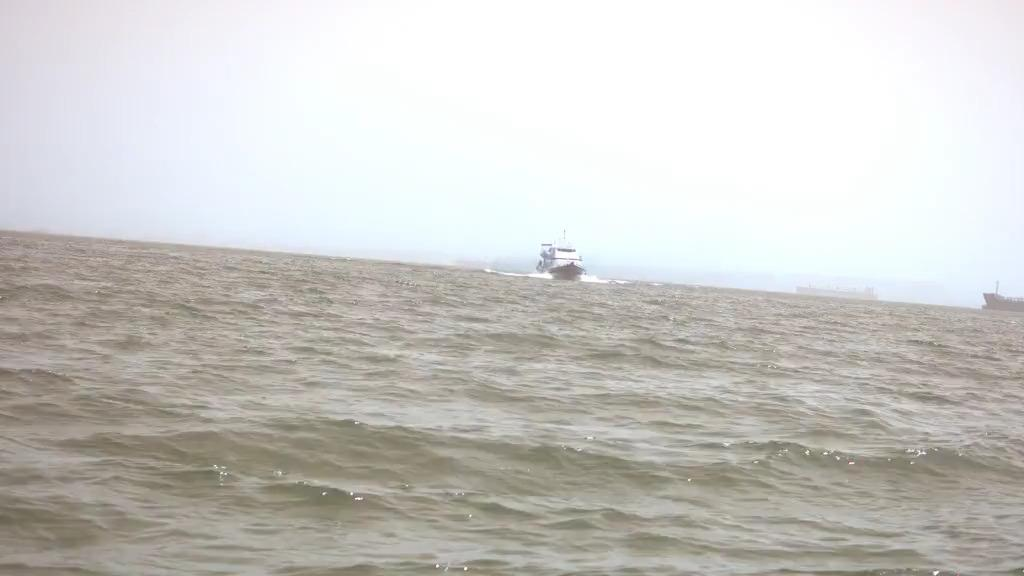PassengerShip: (534, 230, 590, 284)
